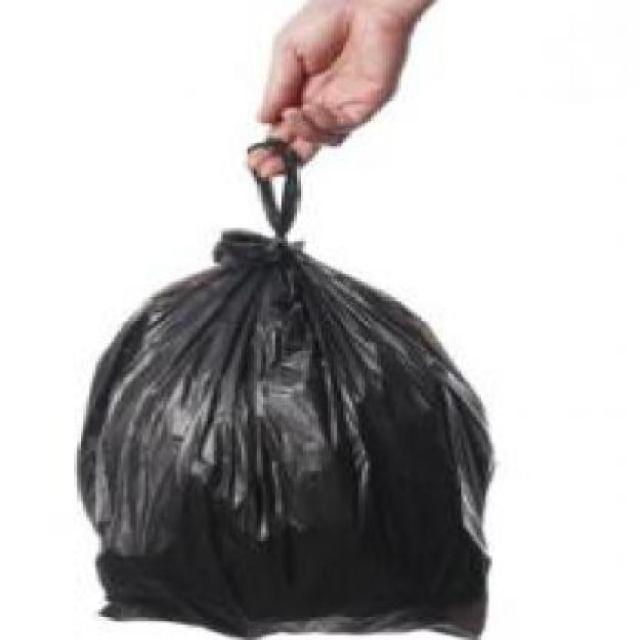Garbage_Bag: (78, 139, 502, 636)
